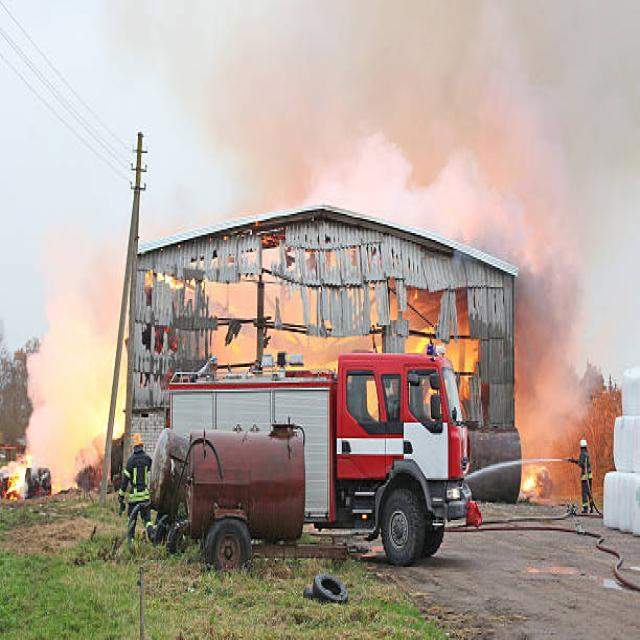Smoke: (367, 14, 620, 306)
